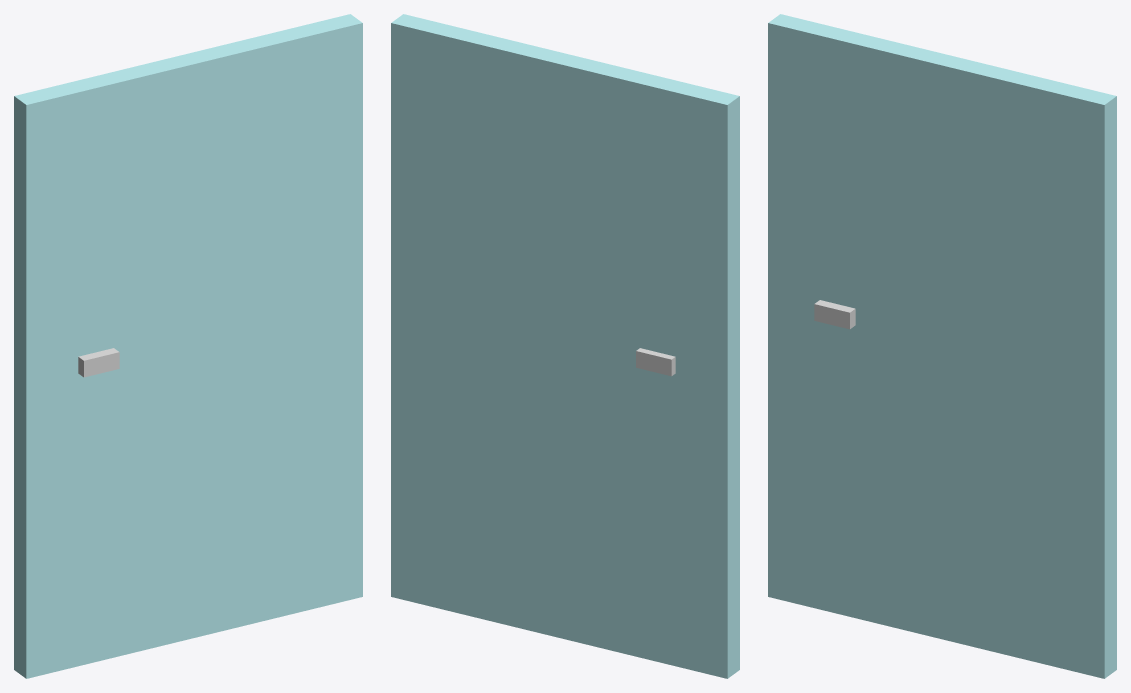
Rendered from Puerta_Cristal_Terraza.fbx.
3 renders of one model, left to right at view 1: azimuth 30°, elevation 25°; view 2: azimuth 150°, elevation 25°; view 3: azimuth 330°, elevation 25°, orthographic.
Parts seen in each view (by area): view 1: Puerta_Cristal.004, Cube.066; view 2: Puerta_Cristal.004, Cube.066; view 3: Puerta_Cristal.004, Cube.066.
Boxes of the visible parts, box(x1,y1,x2,y2) form: Puerta_Cristal.004: box(14, 14, 362, 678); Cube.066: box(78, 348, 119, 377); Puerta_Cristal.004: box(391, 14, 739, 678); Cube.066: box(636, 348, 675, 376); Puerta_Cristal.004: box(768, 14, 1116, 678); Cube.066: box(814, 300, 855, 329).
Bounding box in the file's own units: 126 × 206 × 14.29.
